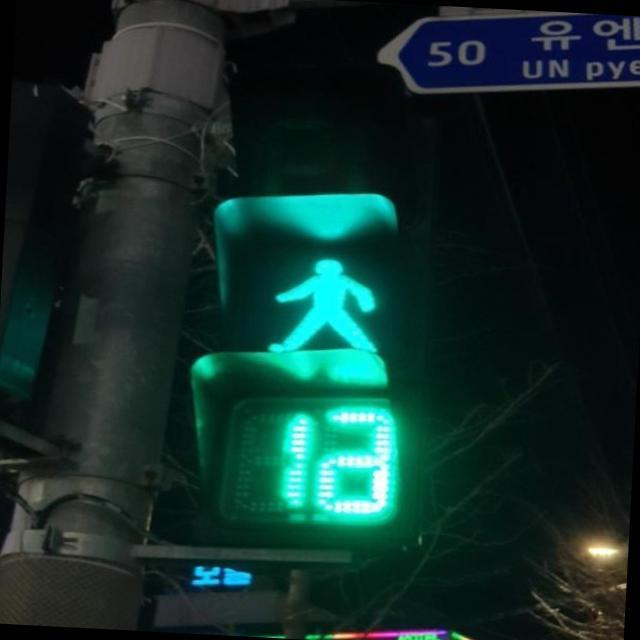greenlight: (202, 51, 424, 380)
